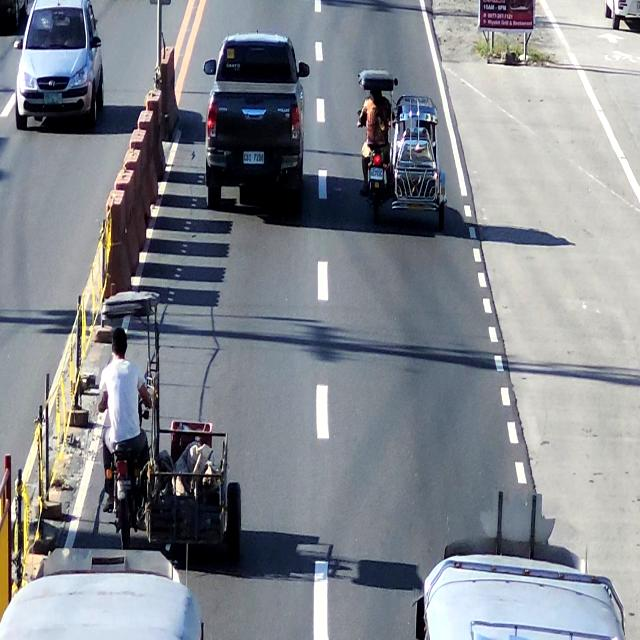Car: (205, 30, 304, 218)
Jeep: (398, 495, 629, 640), (0, 544, 207, 640)
License-Plate: (240, 148, 266, 170), (368, 165, 386, 184)
Tricycle: (97, 289, 248, 555), (357, 70, 449, 231)
